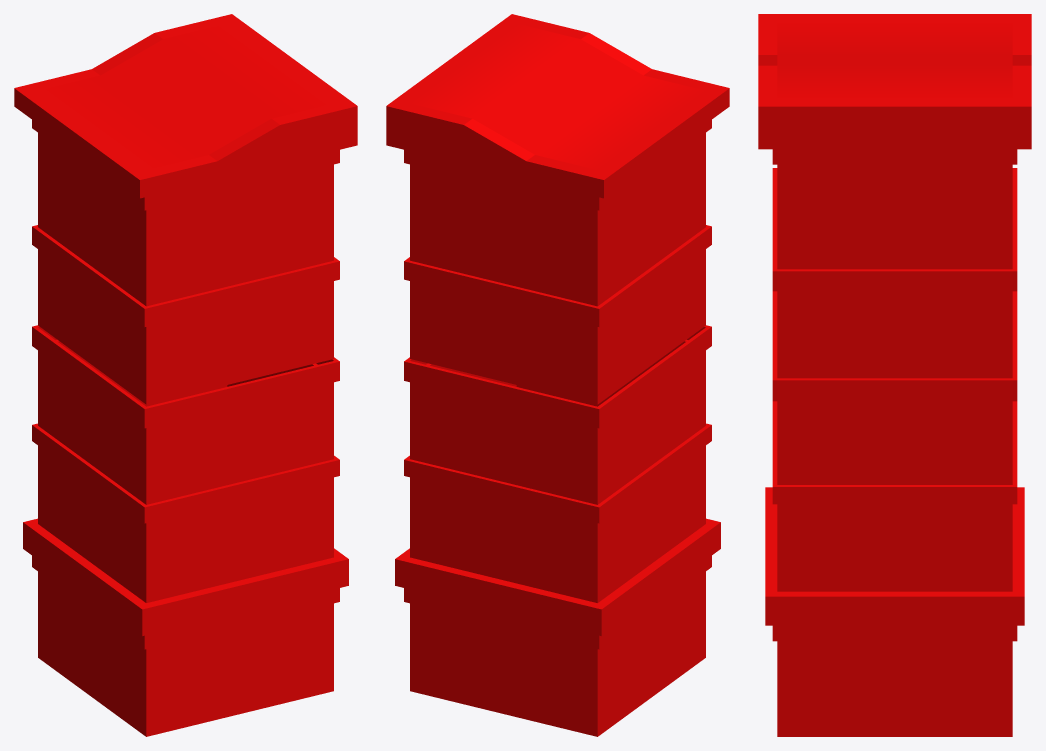
Rendered from smallBuilding_M_v2_athena.fbx.
3 views of the same model, side by side, from view 1: azimuth 30°, elevation 25°; view 2: azimuth 150°, elevation 25°; view 3: azimuth 270°, elevation 25° (orthographic). The views are drawn at different scales.
Visible parts, largest first — view 1: smallBuilding_M_v2_athena_Low; view 2: smallBuilding_M_v2_athena_Low; view 3: smallBuilding_M_v2_athena_Low.
Part boxes in pixels (x1,y1,x2,y2): smallBuilding_M_v2_athena_Low: (14,14,357,736); smallBuilding_M_v2_athena_Low: (386,14,729,736); smallBuilding_M_v2_athena_Low: (758,14,1031,736).
Size of the model in its own units: 1160 by 2990 by 1160.
